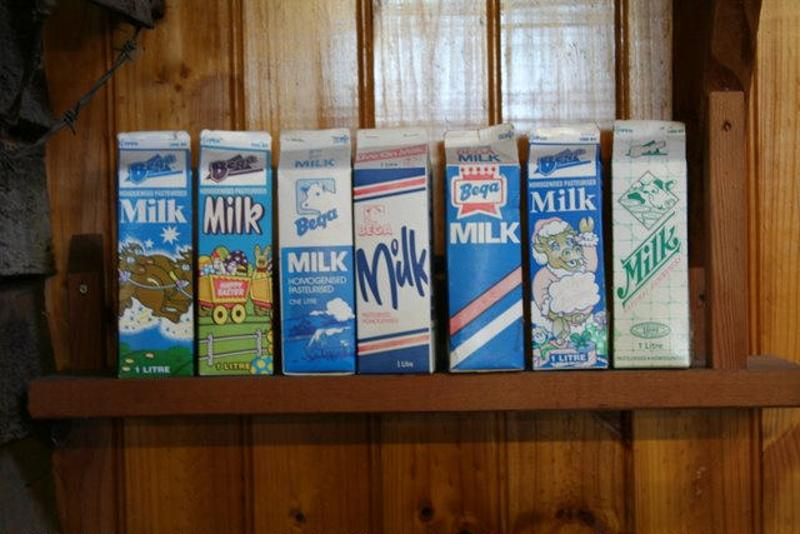cardboard: (606, 113, 694, 367), (110, 128, 198, 376), (440, 121, 527, 371), (354, 127, 439, 374), (526, 125, 612, 367), (274, 125, 357, 375), (197, 129, 276, 374)
